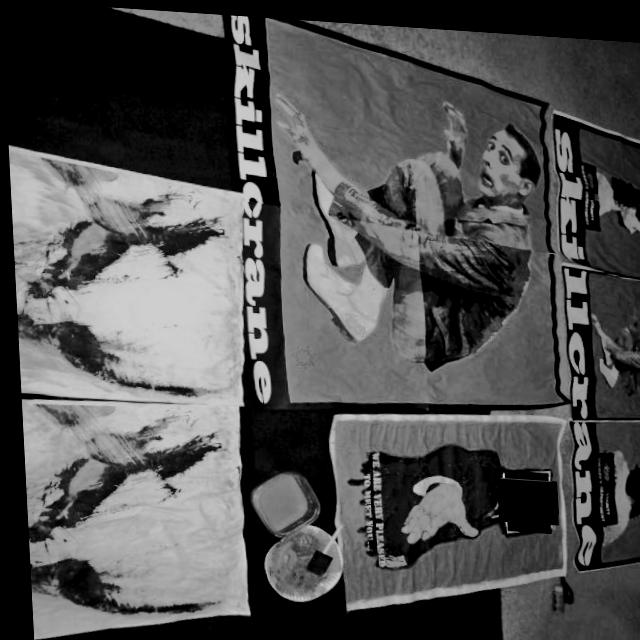qr_code: (495, 467, 549, 523)
